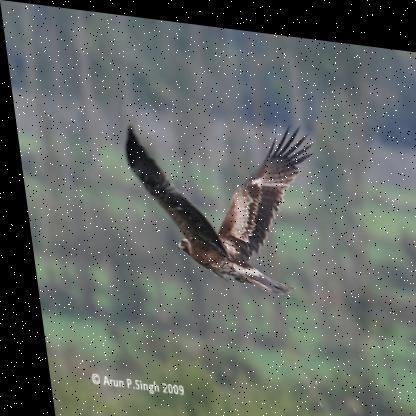Burung: (110, 102, 328, 302)
